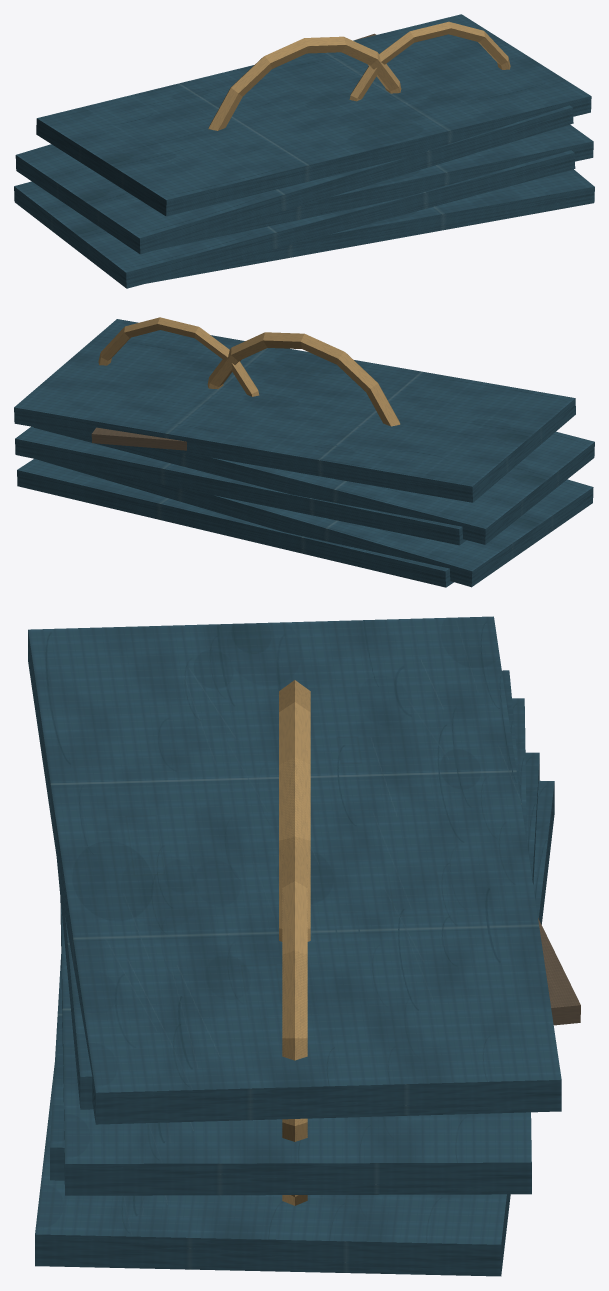
File: pr-001_tarp_presenning__folded.obj
3 renders of one model, top to bottom at view 1: azimuth 30°, elevation 25°; view 2: azimuth 150°, elevation 25°; view 3: azimuth 270°, elevation 25°, orthographic. The views are drawn at different scales.
Parts seen in each view (by area): view 1: pr-001_tarp_presenning__folded; view 2: pr-001_tarp_presenning__folded; view 3: pr-001_tarp_presenning__folded.
Part boxes in pixels (x1,y1,x2,y2): pr-001_tarp_presenning__folded: [14, 14, 594, 288]; pr-001_tarp_presenning__folded: [14, 317, 594, 587]; pr-001_tarp_presenning__folded: [28, 616, 580, 1276].
Bounding box in the file's own units: 0.9808 × 0.43 × 0.4974.
3 materials, 3 textured.
